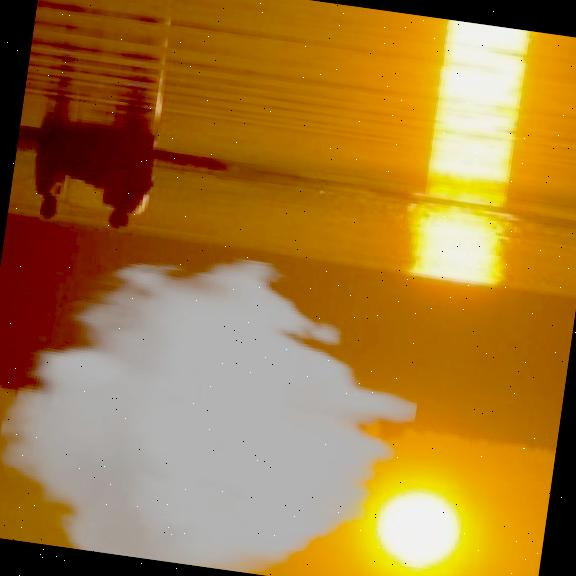smoke: (0, 227, 434, 576)
